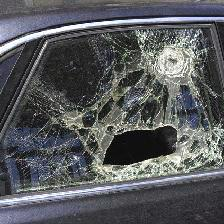glass_shatter: (13, 33, 213, 178)
